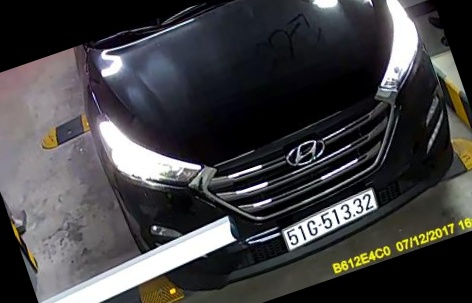plate: (266, 186, 382, 251)
